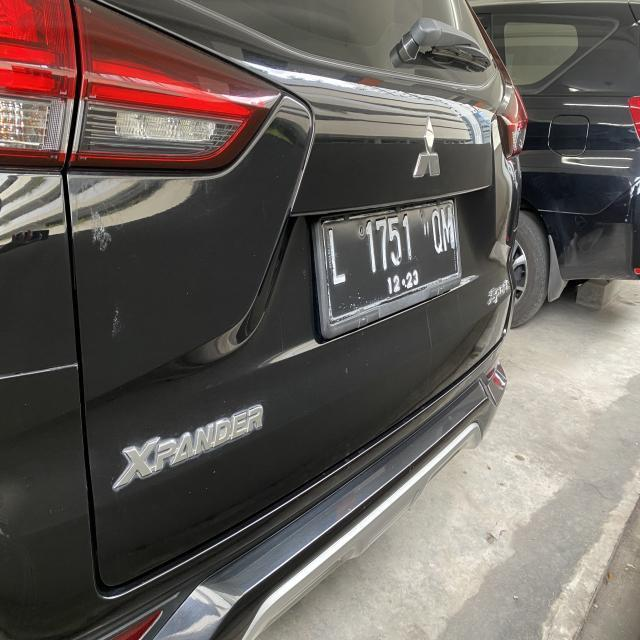1: (362, 219, 376, 277), (403, 213, 415, 262)
5: (389, 216, 403, 272)
7: (376, 216, 389, 272)
L: (326, 224, 348, 288)
M: (442, 207, 454, 253)
Q: (430, 208, 442, 258)
